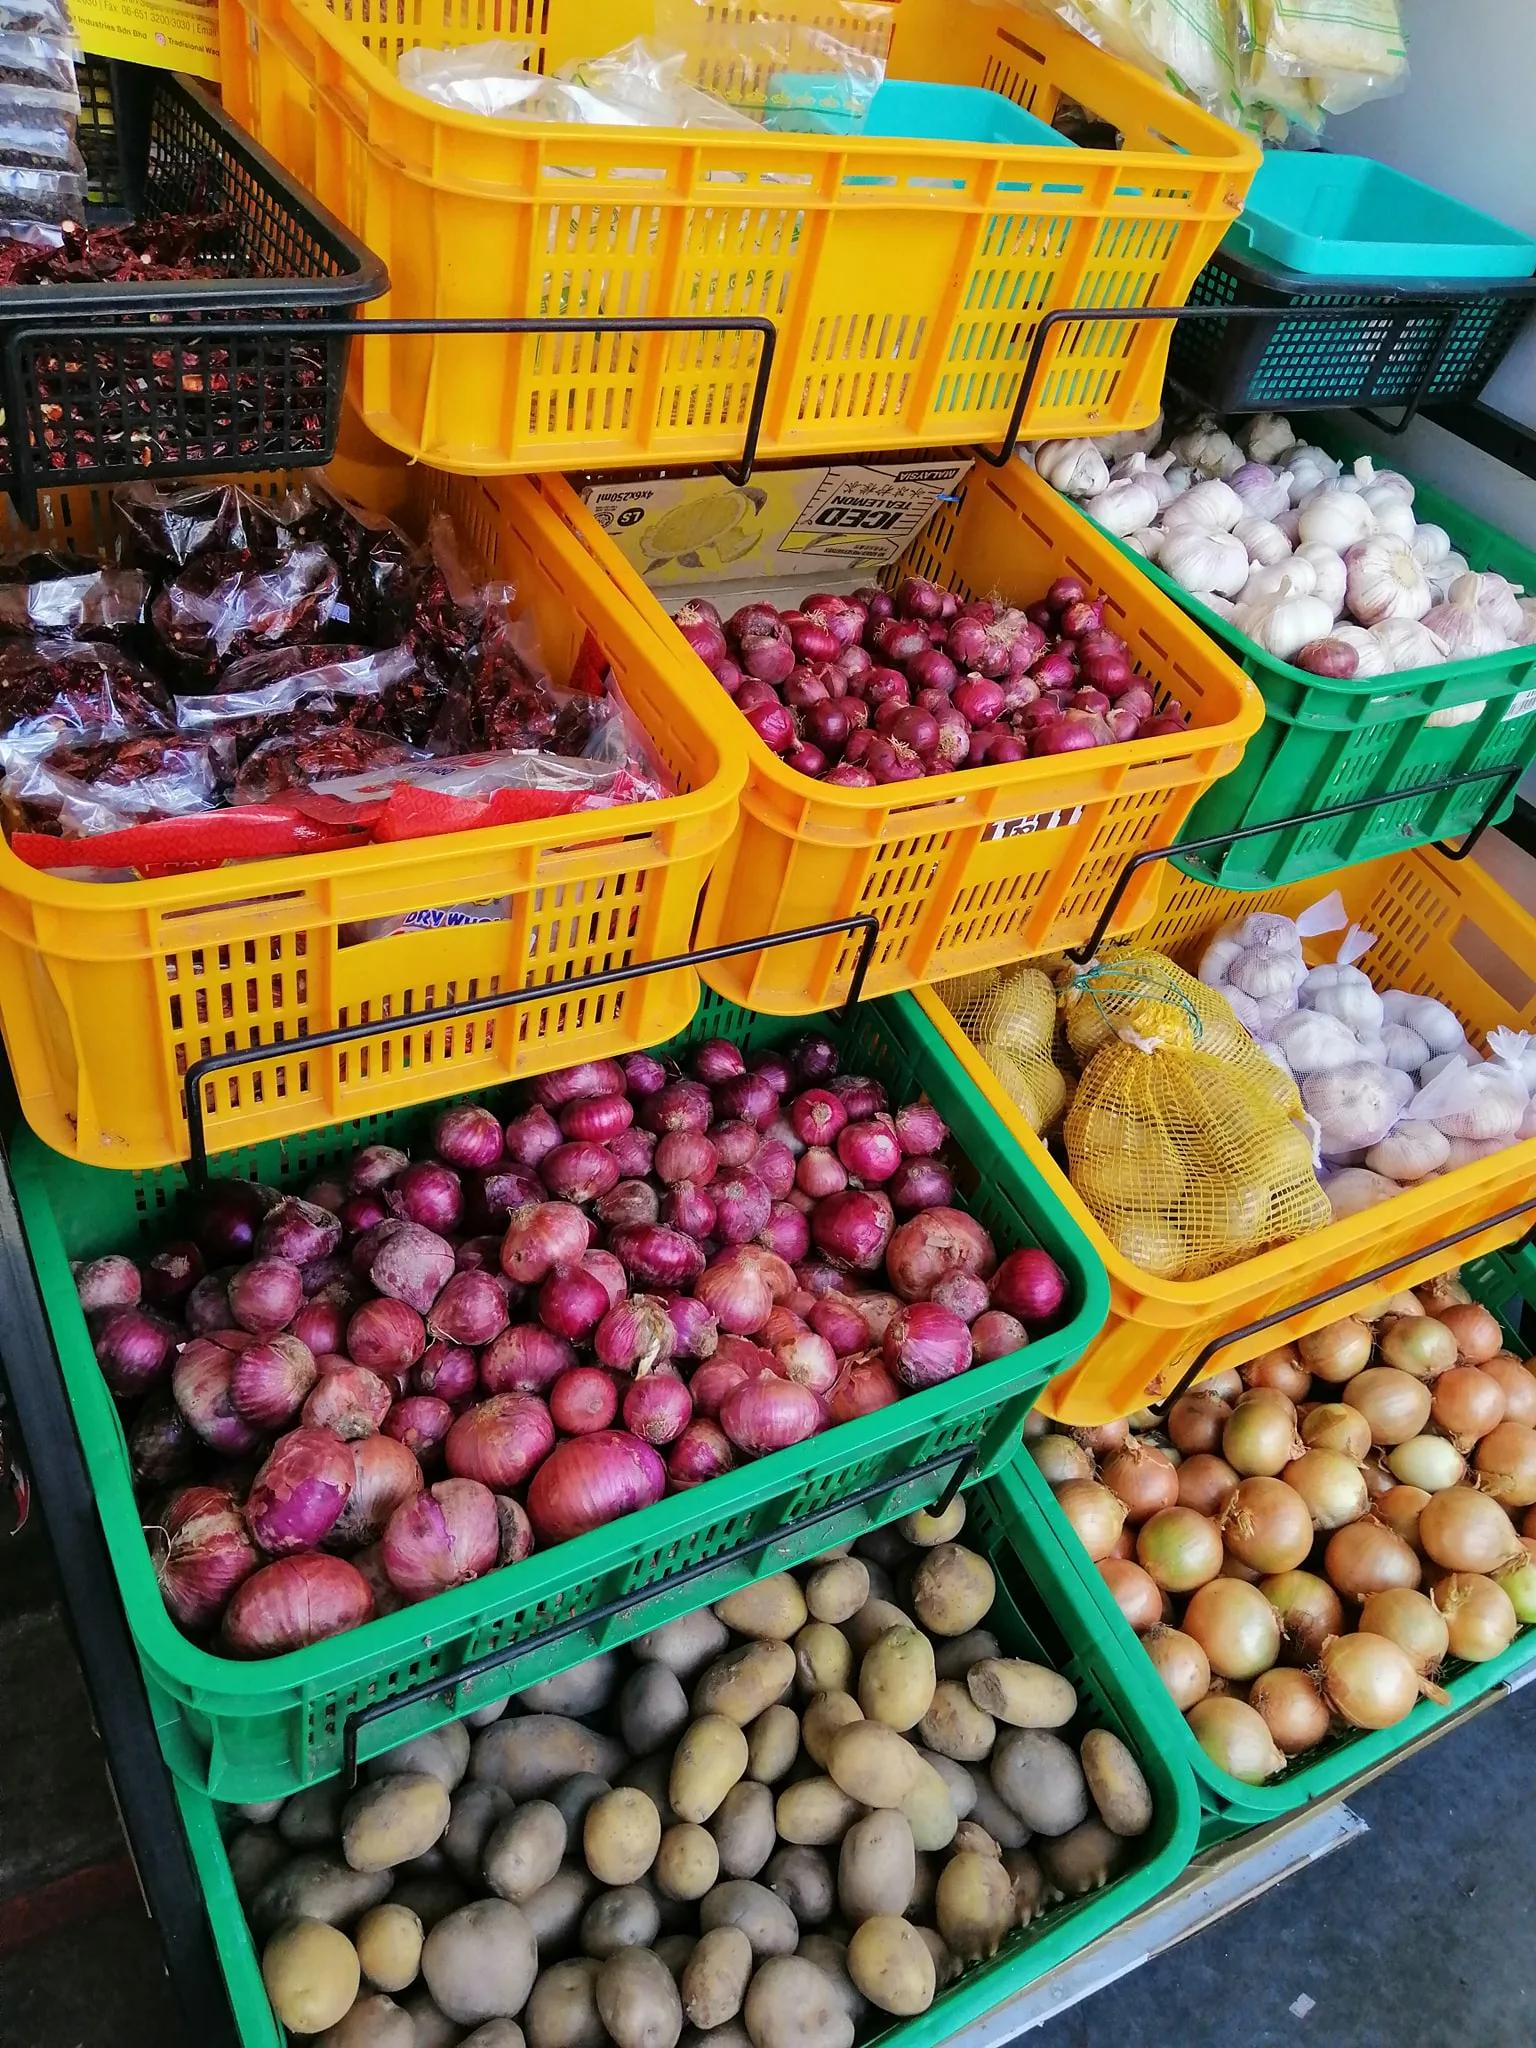garlic: (1052, 395, 1536, 681), (1200, 906, 1536, 1206)
onion: (66, 1040, 1041, 1640), (1073, 1305, 1536, 1777), (682, 539, 1187, 795)
potato: (239, 1508, 1147, 2048), (955, 940, 1331, 1285)
